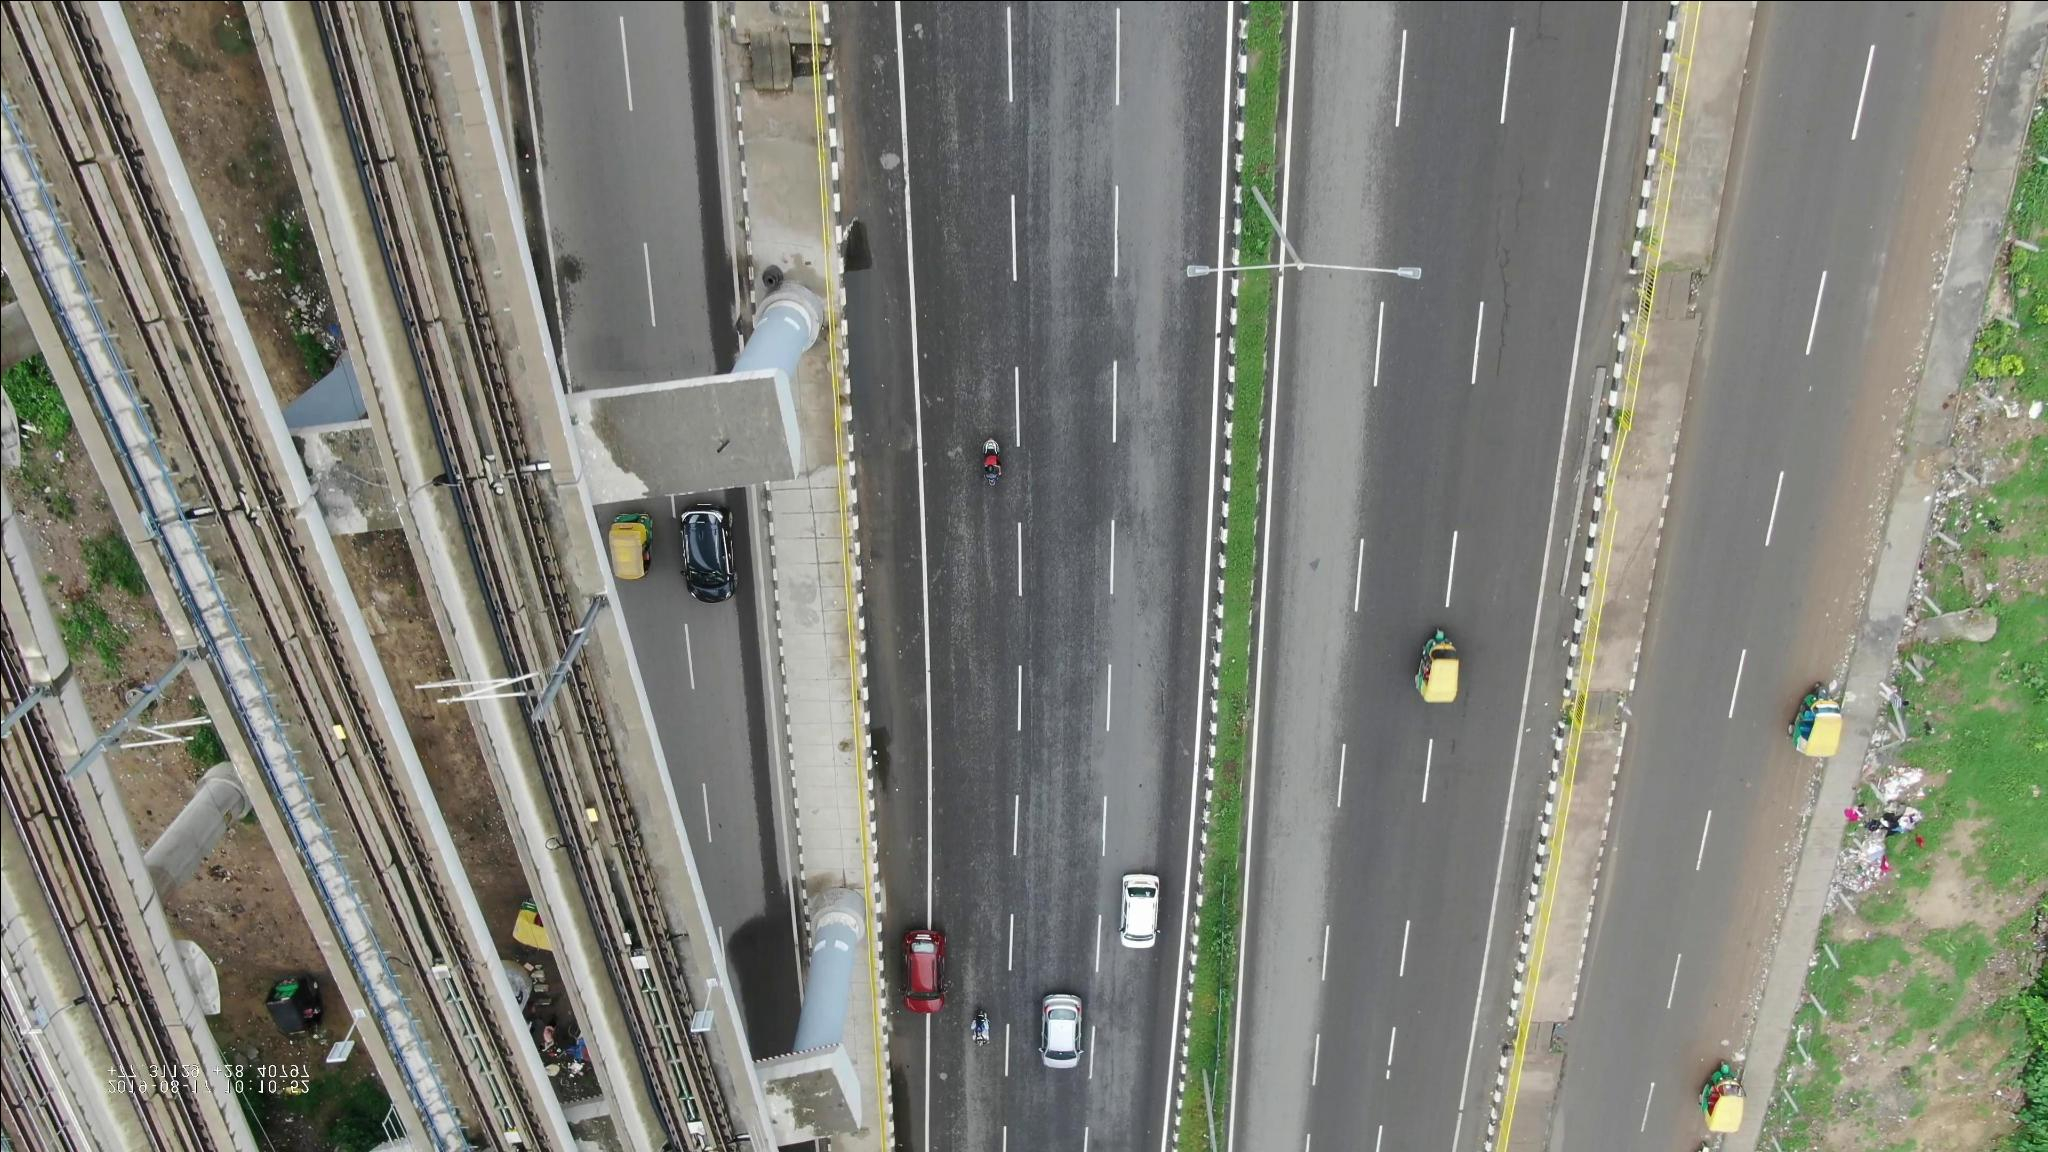Muddy_road: (1809, 418, 1888, 599), (1862, 201, 1943, 378), (1708, 854, 1792, 1001)
